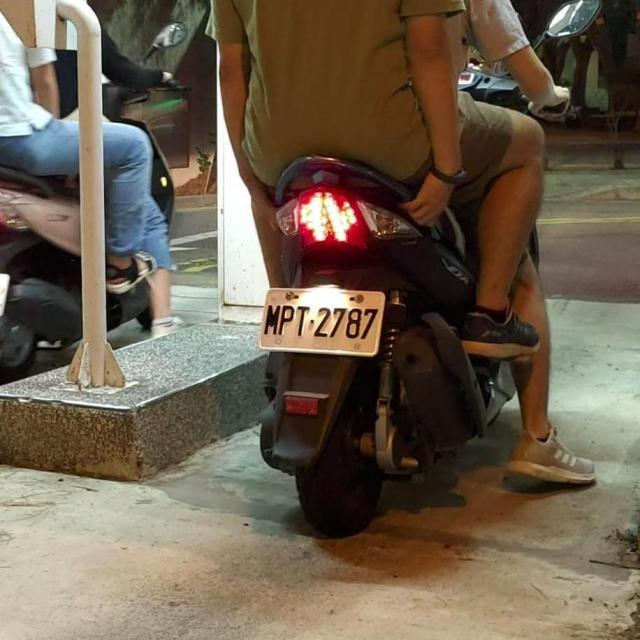W: (256, 281, 386, 359)
